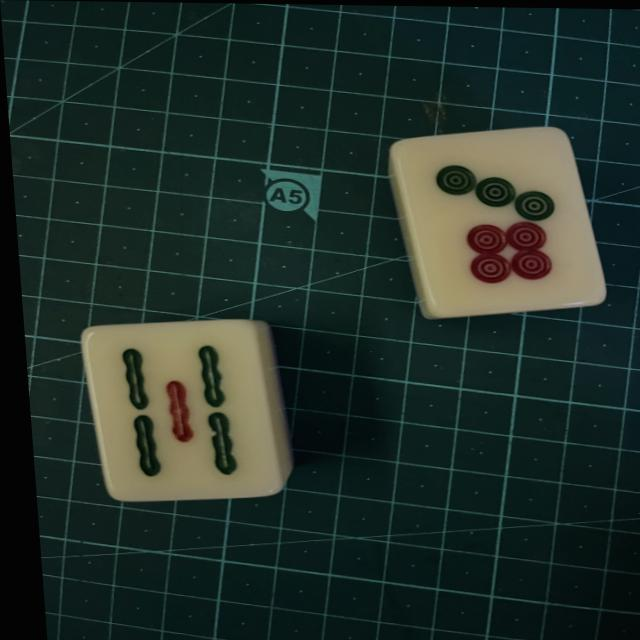s5: (84, 322, 288, 503)
t7: (395, 134, 604, 322)
